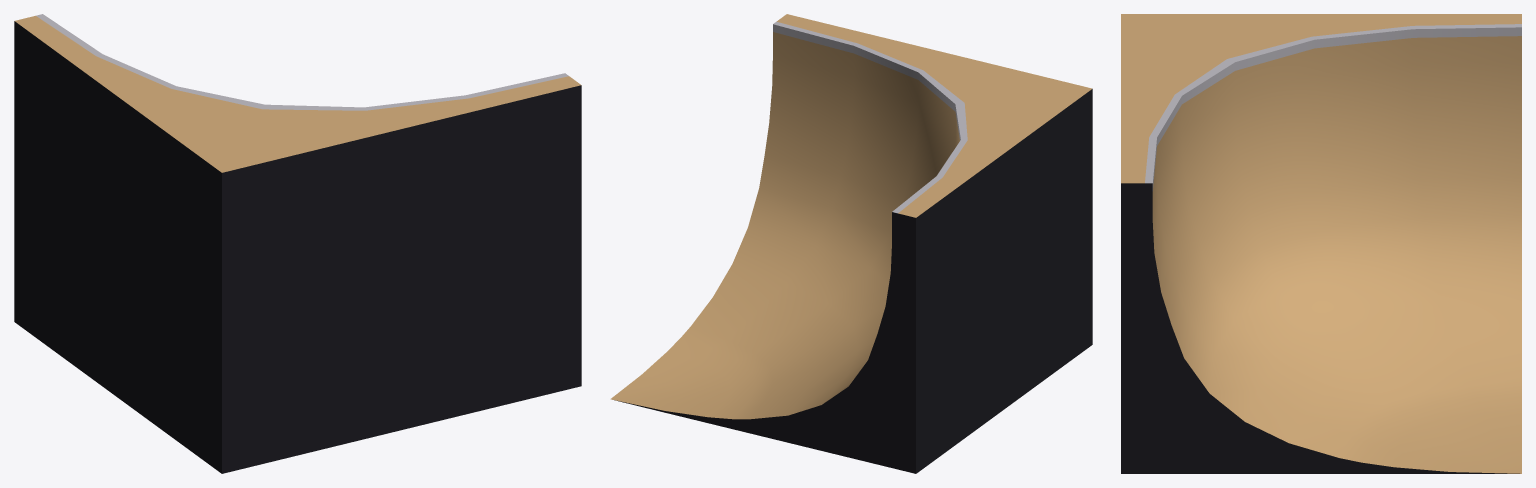
The model's file is Quater_LRG_HighVert_Corner1.fbx.
3 renders of one model, left to right at view 1: azimuth 30°, elevation 25°; view 2: azimuth 150°, elevation 25°; view 3: azimuth 270°, elevation 25°, orthographic. The views are drawn at different scales.
Visible parts, largest first — view 1: Quater_LRG_HighVert_Corner1; view 2: Quater_LRG_HighVert_Corner1; view 3: Quater_LRG_HighVert_Corner1.
Part boxes in pixels (x1=…): Quater_LRG_HighVert_Corner1: x1=14, y1=14, x2=581, y2=473; Quater_LRG_HighVert_Corner1: x1=610, y1=14, x2=1092, y2=473; Quater_LRG_HighVert_Corner1: x1=1121, y1=14, x2=1521, y2=473.
Bounding box in the file's own units: 20 × 16 × 20.
